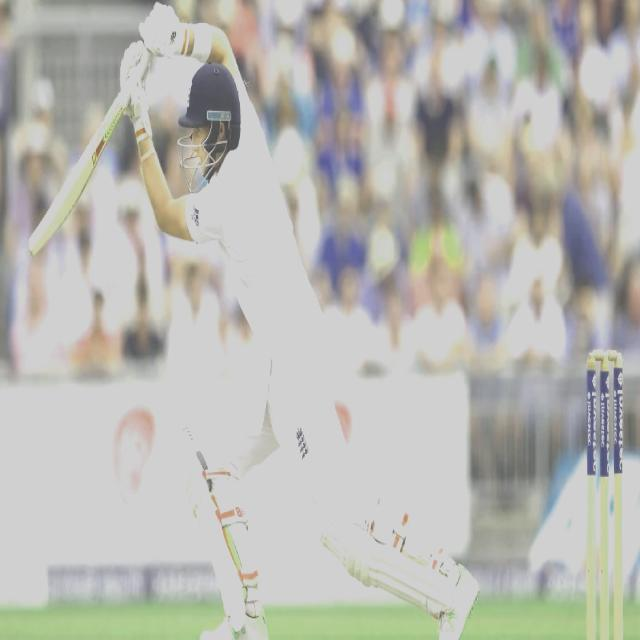toe: (27, 198, 64, 259)
